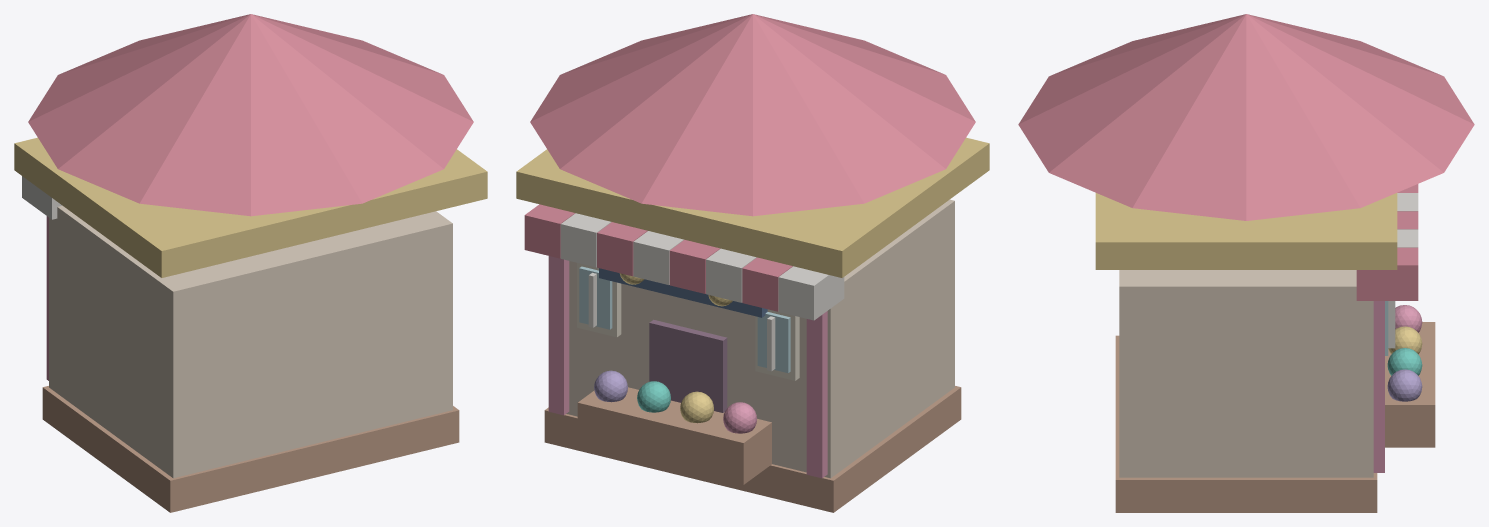
The model's file is candy_kiosk.glb.
The picture shows the model from 3 angles, left to right: view 1: azimuth 30°, elevation 25°; view 2: azimuth 150°, elevation 25°; view 3: azimuth 270°, elevation 25°; orthographic projection. The views are drawn at different scales.
Parts seen in each view (by area): view 1: candy_kiosk; view 2: candy_kiosk; view 3: candy_kiosk.
Part boxes in pixels (x1,y1,x2,y2): candy_kiosk: [14, 14, 487, 512]; candy_kiosk: [516, 14, 989, 512]; candy_kiosk: [1018, 14, 1474, 512].
Bounding box in the file's own units: 6.28 × 6.48 × 6.28.
